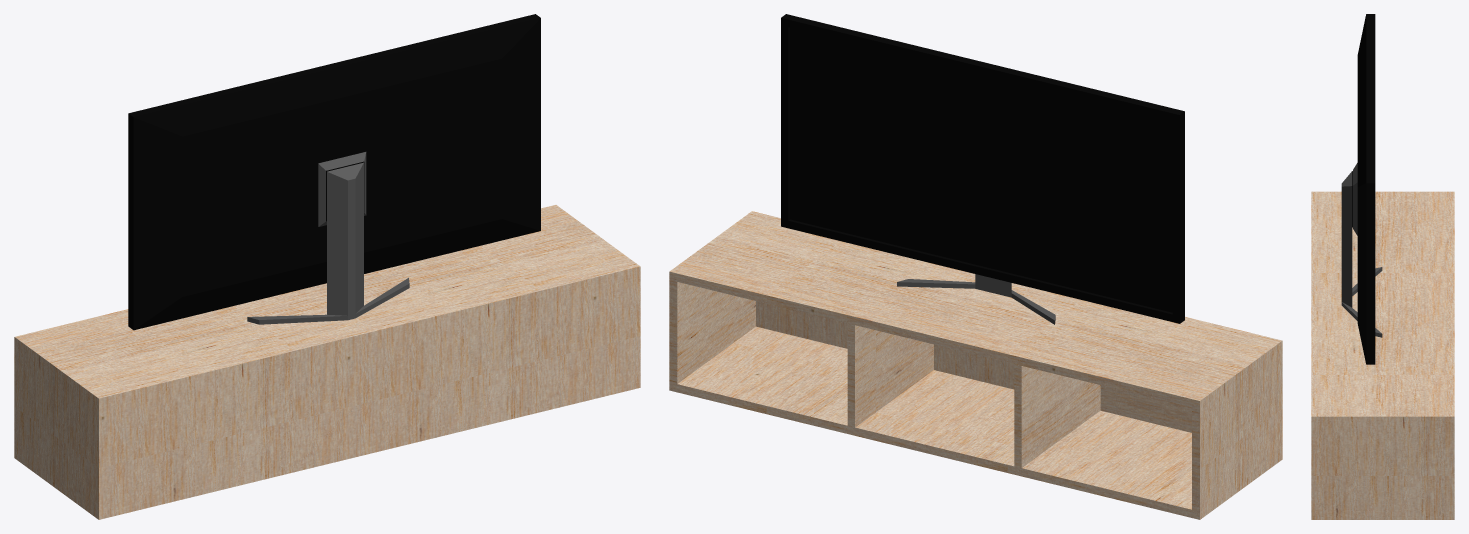
The model's file is tv_stand.DAE.
3 views of the same model, side by side, from view 1: azimuth 30°, elevation 25°; view 2: azimuth 150°, elevation 25°; view 3: azimuth 270°, elevation 25° (orthographic). The views are drawn at different scales.
Visible parts, largest first — view 1: Cube.001, Cube; view 2: Cube.001, Cube; view 3: Cube.001, Cube.
Part boxes in pixels (x1,y1,x2,y2): Cube.001: (14, 205, 640, 519); Cube: (128, 14, 540, 330); Cube.001: (669, 211, 1282, 519); Cube: (781, 14, 1184, 324); Cube.001: (1311, 191, 1454, 519); Cube: (1341, 14, 1382, 364).
Bounding box in the file's own units: 31.29 × 8.44 × 20.02.
Materials: 4 (1 with a texture image).
